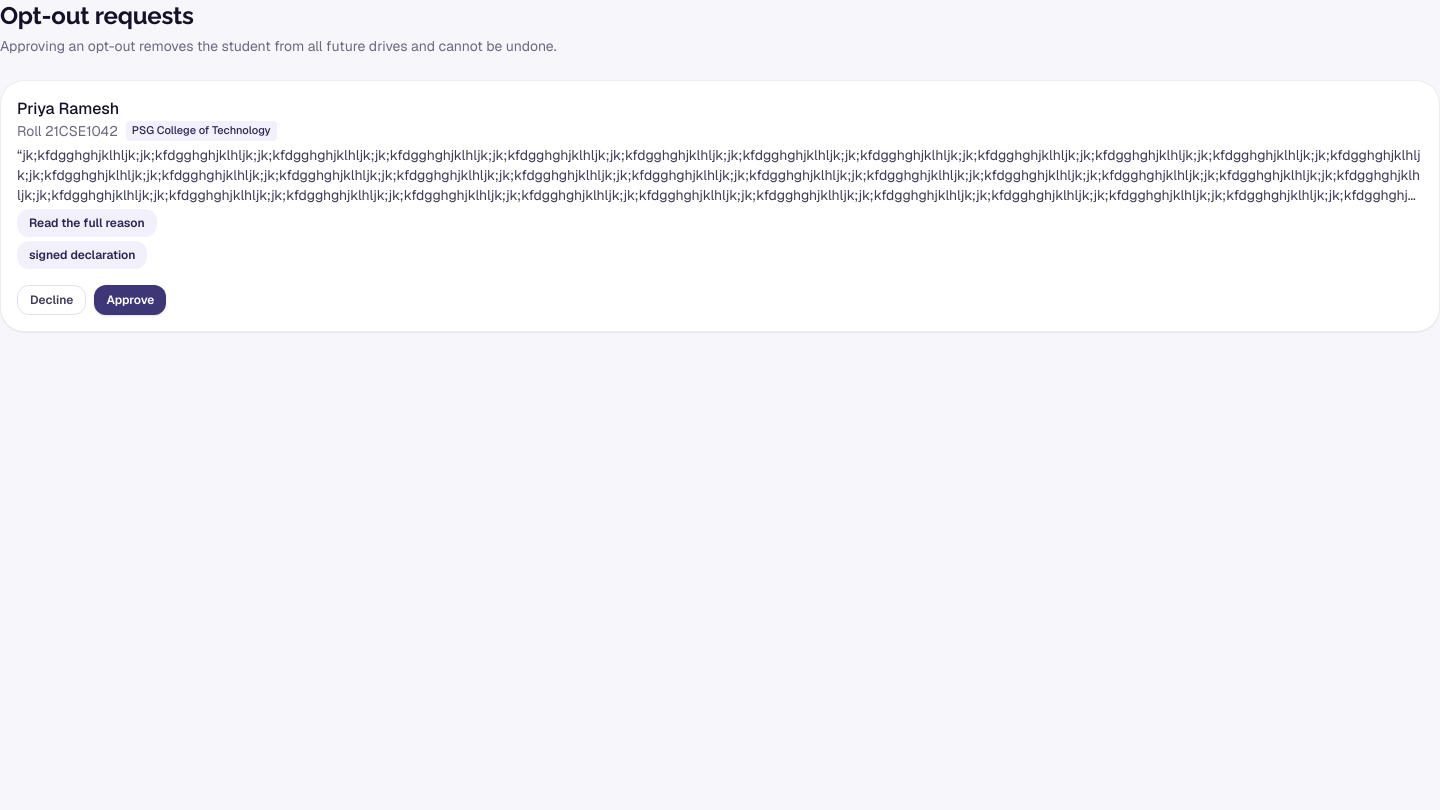
it: OptOutQueue › folds a long reason into a popup instead of printing it whole
The width and height of the screenshot is (1440, 810).
Click the button with aria-label "read the full reason — Priya Ramesh" at x=87, y=223, box [17,209,157,237]
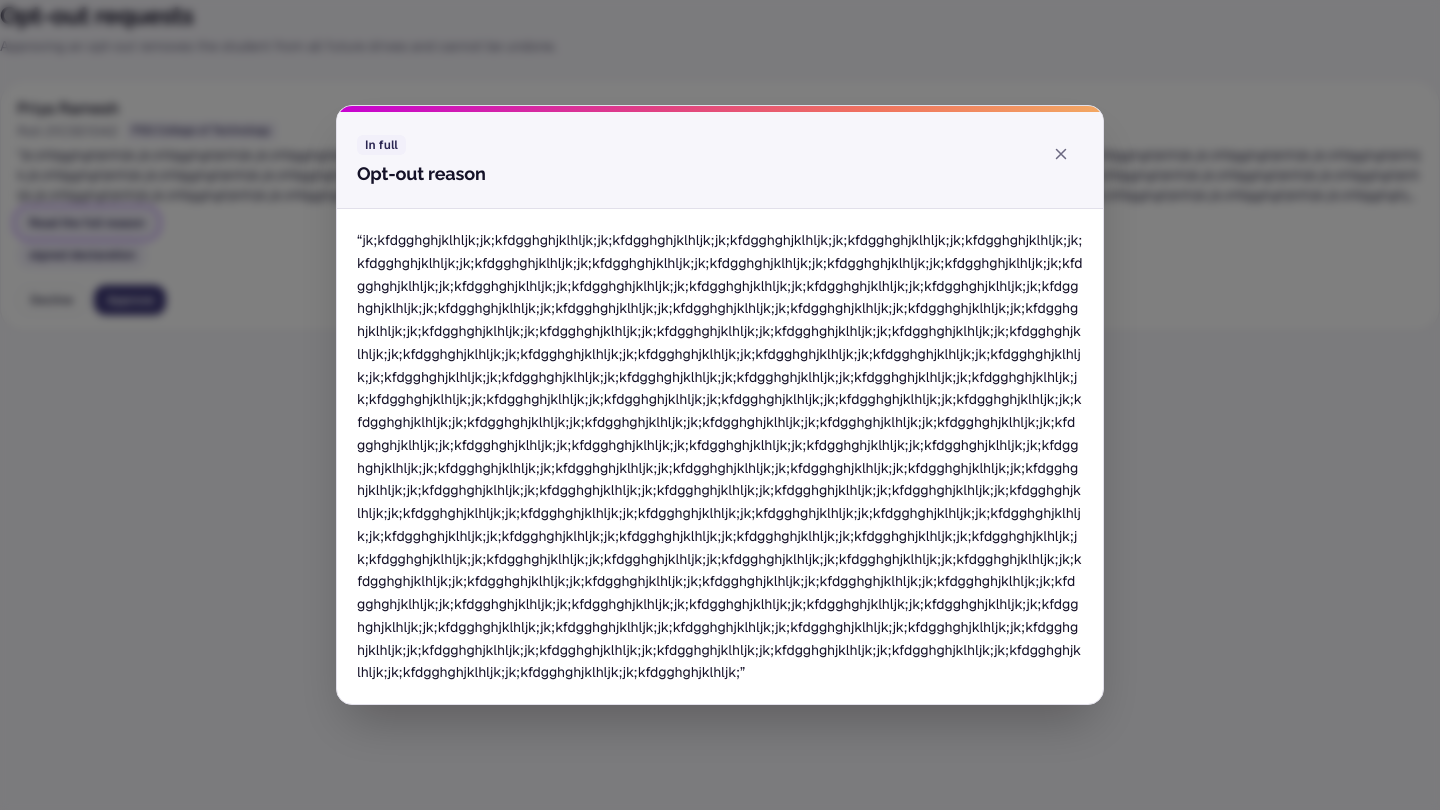
Click the button named "close" at x=1061, y=154, box [1039,132,1083,176]
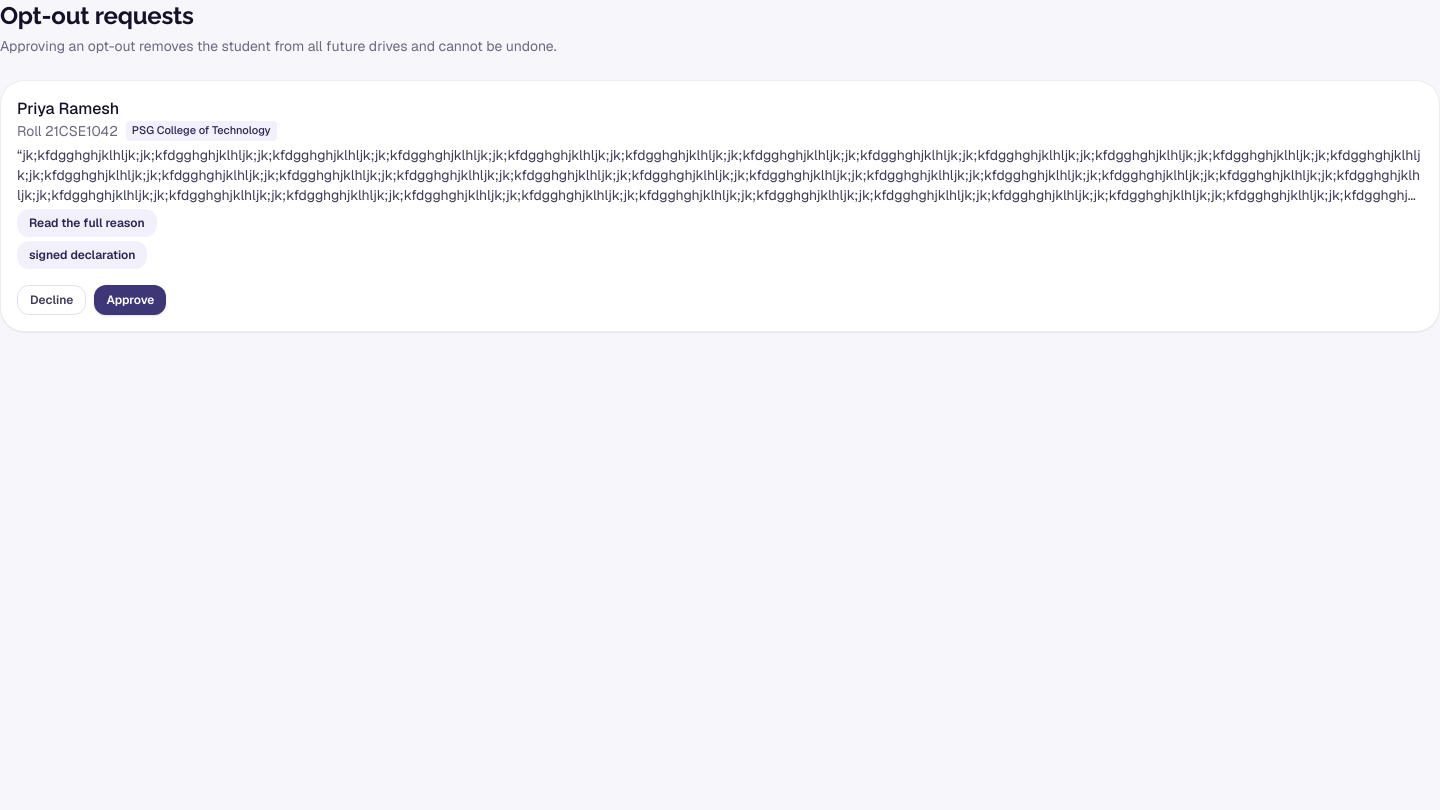
expect the dialog is gone: met
